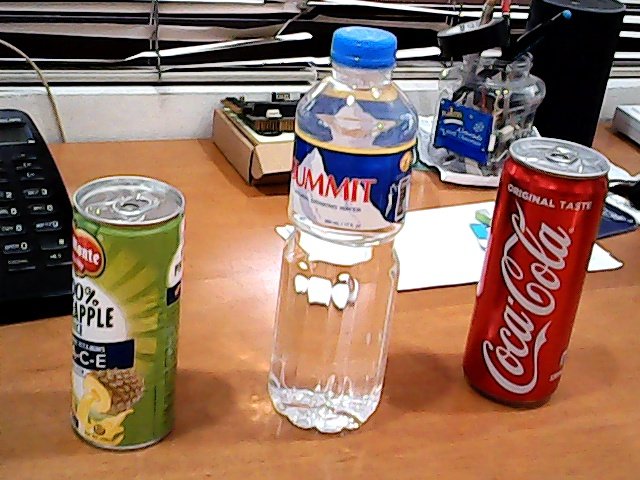Cola: (451, 117, 622, 435)
Pine Juice: (42, 158, 201, 466)
Summit Water: (245, 12, 435, 448)
